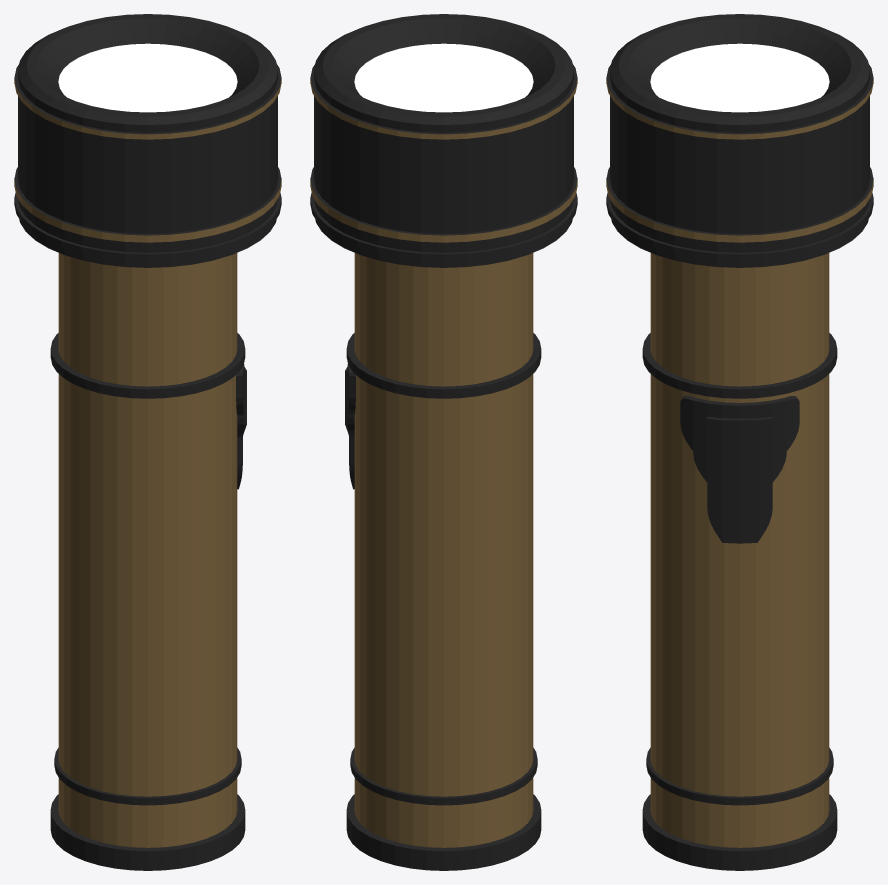
The model's file is FlashLight.fbx.
3 renders of one model, left to right at view 1: azimuth 30°, elevation 25°; view 2: azimuth 150°, elevation 25°; view 3: azimuth 270°, elevation 25°, orthographic.
Visible parts, largest first — view 1: Cylinder.017; view 2: Cylinder.017; view 3: Cylinder.017.
Part boxes in pixels (x1=…): Cylinder.017: x1=14, y1=14, x2=281, y2=870; Cylinder.017: x1=310, y1=14, x2=577, y2=870; Cylinder.017: x1=606, y1=14, x2=873, y2=870.
Bounding box in the file's own units: 137 × 434 × 137.
